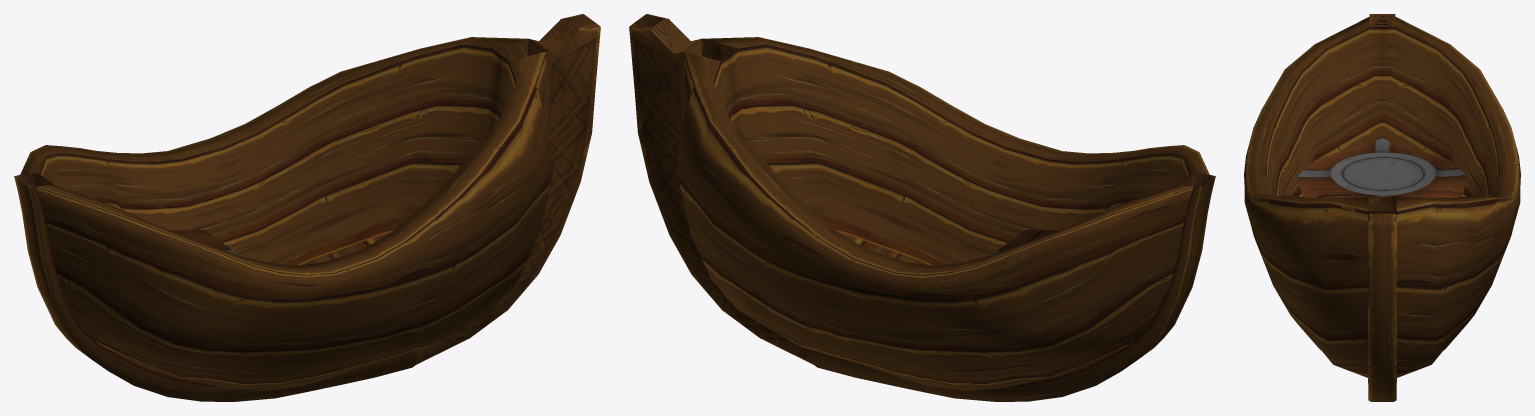
File: DrachenbootKollision.FBX
3 renders of one model, left to right at view 1: azimuth 30°, elevation 25°; view 2: azimuth 150°, elevation 25°; view 3: azimuth 270°, elevation 25°, orthographic. The views are drawn at different scales.
Visible parts, largest first — view 1: Dachenboot; view 2: Dachenboot; view 3: Dachenboot.
Part boxes in pixels (x1,y1,x2,y2): Dachenboot: [14, 14, 600, 401]; Dachenboot: [629, 14, 1215, 401]; Dachenboot: [1244, 14, 1520, 401].
Bounding box in the file's own units: 150 × 76.99 × 74.85.
